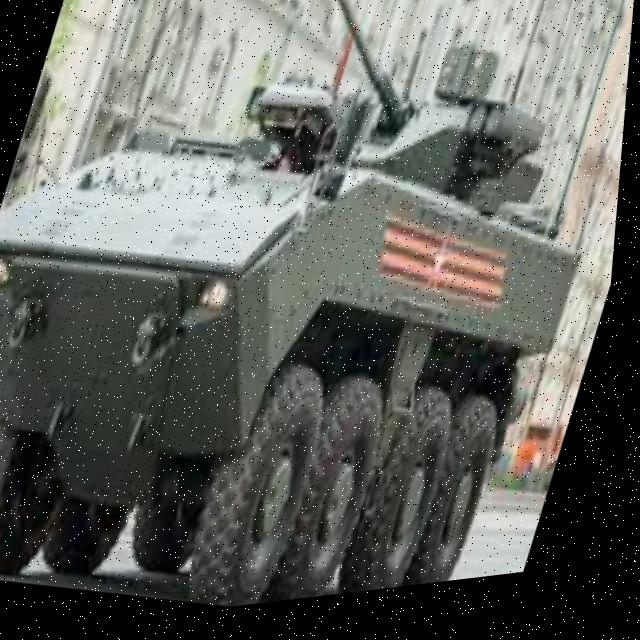MIL_APC: (0, 0, 637, 640)
